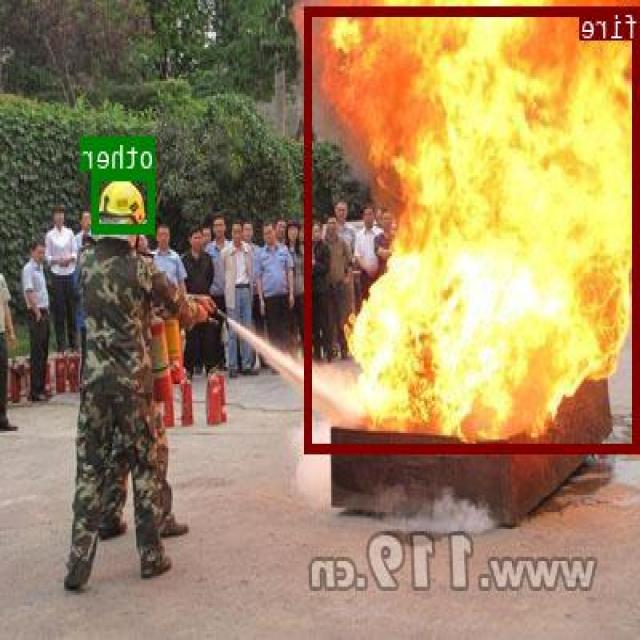fire: (307, 6, 640, 452)
other: (93, 170, 156, 231)
